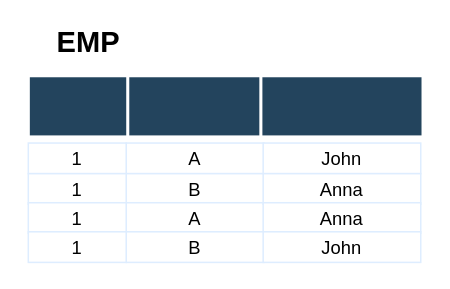
The diagram is 450 pixels wide and 289 high, and some of its shapes have lost their labels. The centre of each missing label's shape, as x and y in pixels:
Dependent_name: the point at 341,105
Emp_id: the point at 77,105
Project_name: the point at 194,105
